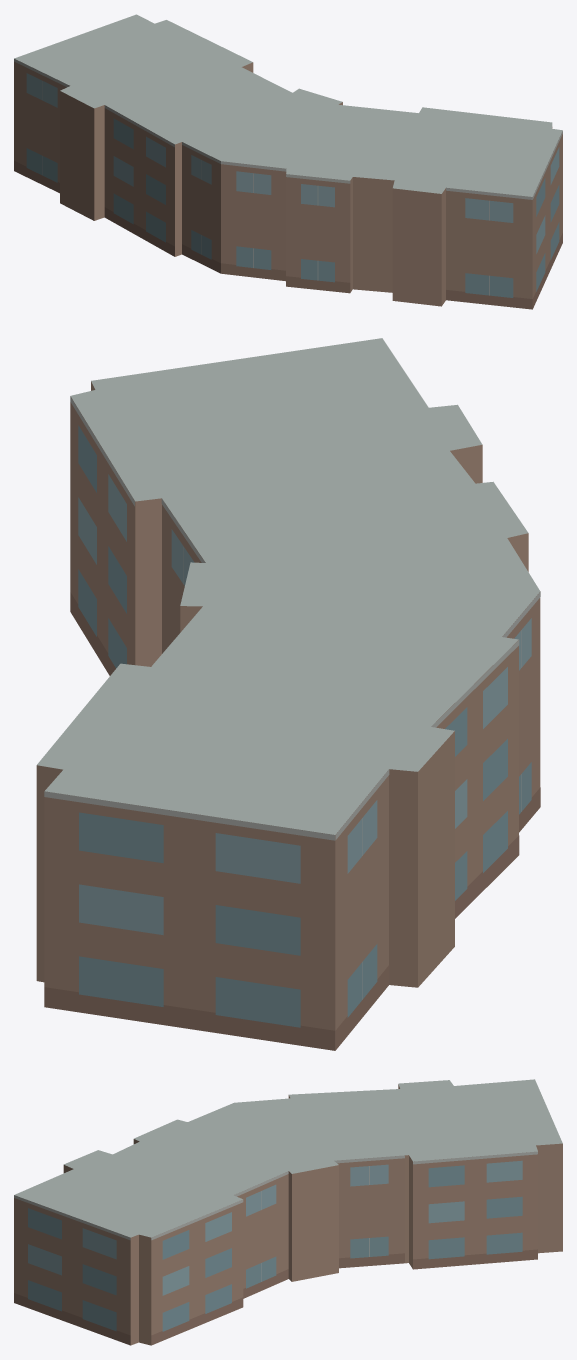
File: survey-upis-32516127.glb
The picture shows the model from 3 angles, top to bottom: view 1: azimuth 30°, elevation 25°; view 2: azimuth 150°, elevation 25°; view 3: azimuth 270°, elevation 25°; orthographic projection. The views are drawn at different scales.
Visible parts, largest first — view 1: survey-upis-32516127.tmp; view 2: survey-upis-32516127.tmp; view 3: survey-upis-32516127.tmp.
Boxes of the visible parts, x1,y1,x2,y2 form: survey-upis-32516127.tmp: (14, 14, 562, 309); survey-upis-32516127.tmp: (36, 338, 540, 1050); survey-upis-32516127.tmp: (14, 1079, 562, 1345).
Size of the model in its own units: 28.78 by 9.15 by 42.18.
